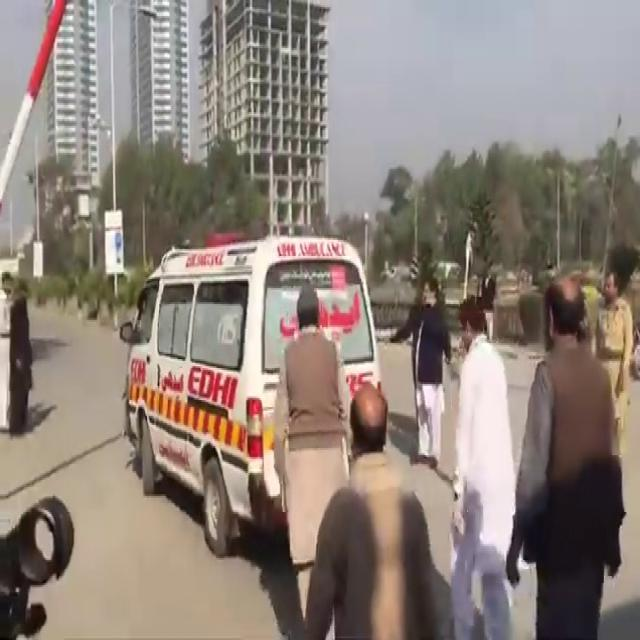ambulance: (119, 172, 408, 526)
